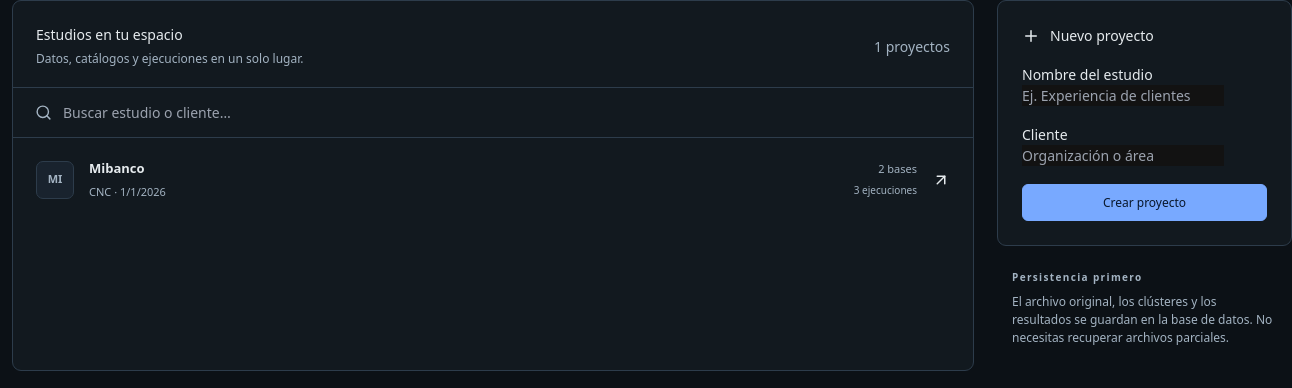
it: searches real project data without injecting demo projects
Check: the text "Mibanco" is shown, box [89,159,145,177]
Type "inexistente" into the field with placeholder "Buscar estudio o cliente…" at (164, 112), box [61,100,267,125]
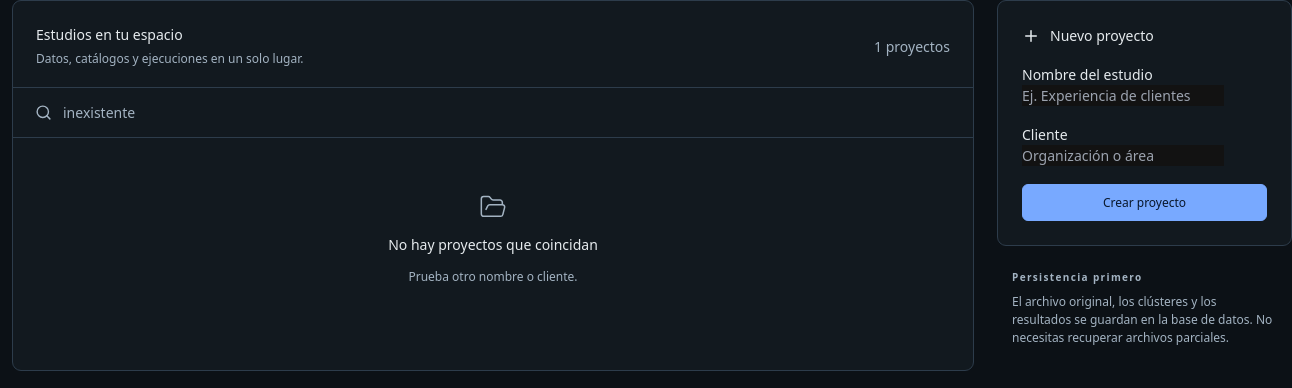
Check: the button "Mibanco" is gone
Check: the heading "No hay proyectos que coincidan" is shown, box [388,234,598,255]
